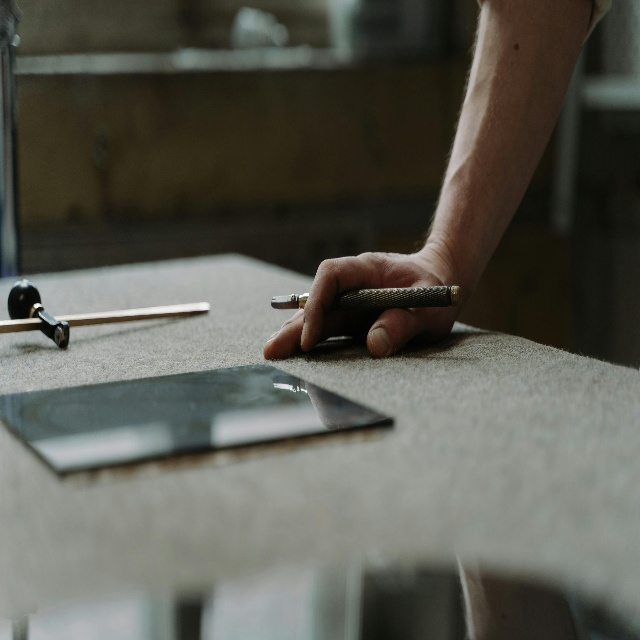Sin_guantes: (262, 249, 459, 361)
